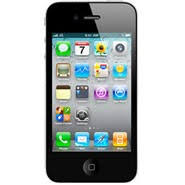iphone: (42, 1, 142, 185)
iphone4: (42, 1, 142, 185)
